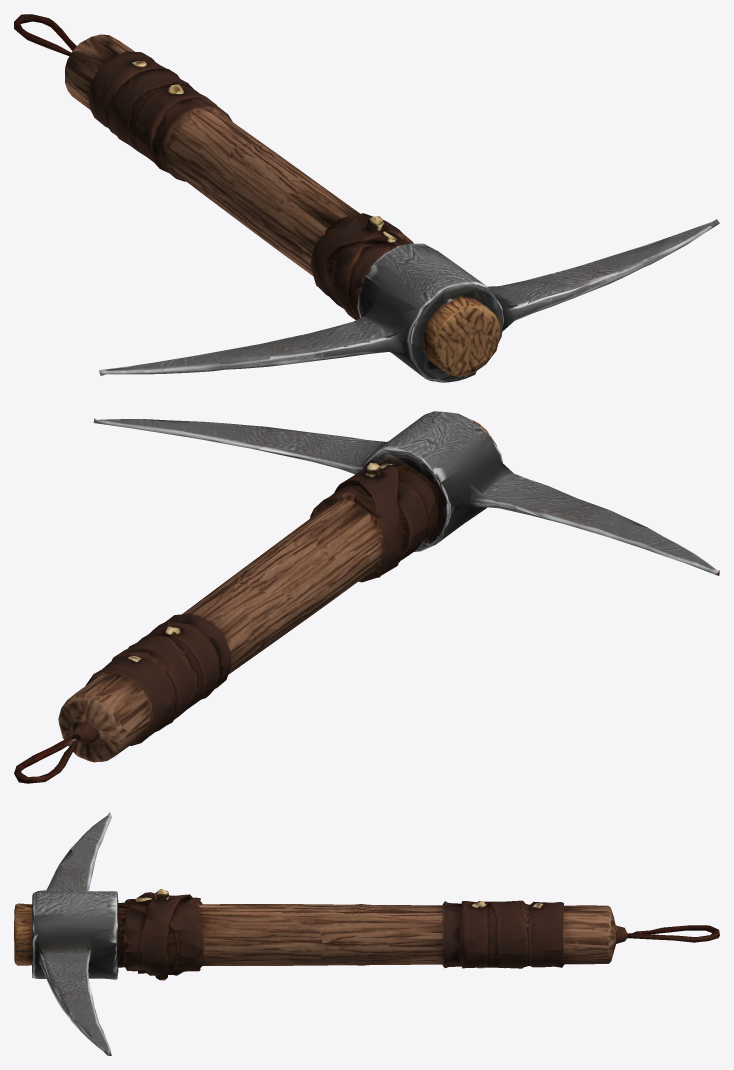
File: pick0.glb
3 views of the same model, one above another, from view 1: azimuth 30°, elevation 25°; view 2: azimuth 150°, elevation 25°; view 3: azimuth 270°, elevation 25° (orthographic). The views are drawn at different scales.
Parts seen in each view (by area): view 1: tripo_node_f1b391d2; view 2: tripo_node_f1b391d2; view 3: tripo_node_f1b391d2.
Part boxes in pixels (bbox=[...]): tripo_node_f1b391d2: bbox=[14, 14, 719, 382]; tripo_node_f1b391d2: bbox=[14, 411, 719, 783]; tripo_node_f1b391d2: bbox=[14, 812, 719, 1055].
Bounding box in the file's own units: 0.5428 × 0.0953 × 0.6728.
1 material, 1 textured.
